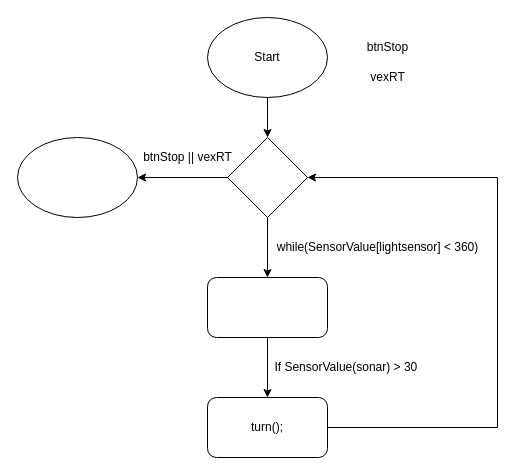
Some shapes in this 523 by 475 pixel diagram are drawn without their labels. Each missing label, with the centre of its shape:
"drive();" goes at point 267,307.
"Stop" goes at point 77,177.
